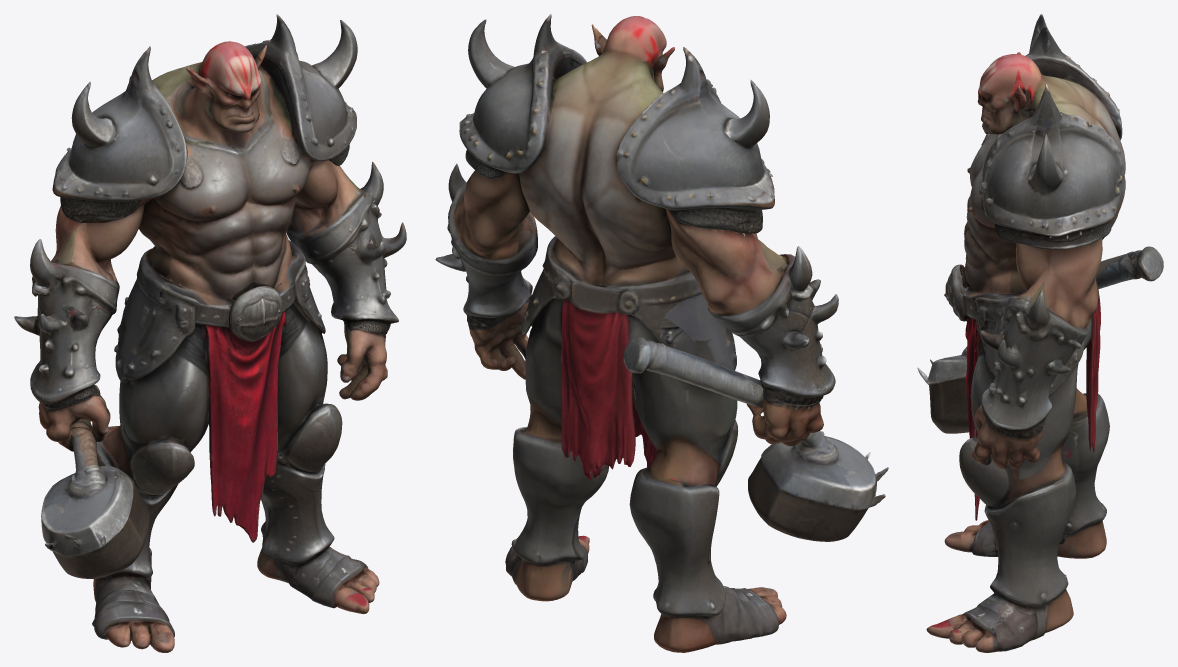
The model's file is Meshy_AI_Warrior_Titan_1115233413_texture.glb.
3 renders of one model, left to right at view 1: azimuth 30°, elevation 25°; view 2: azimuth 150°, elevation 25°; view 3: azimuth 270°, elevation 25°, orthographic. The views are drawn at different scales.
Size of the model in its own units: 1.42 by 2 by 0.8286.
1 material, 1 textured.
